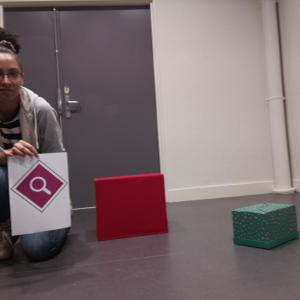medium: (92, 172, 172, 242)
small: (229, 200, 300, 254)
